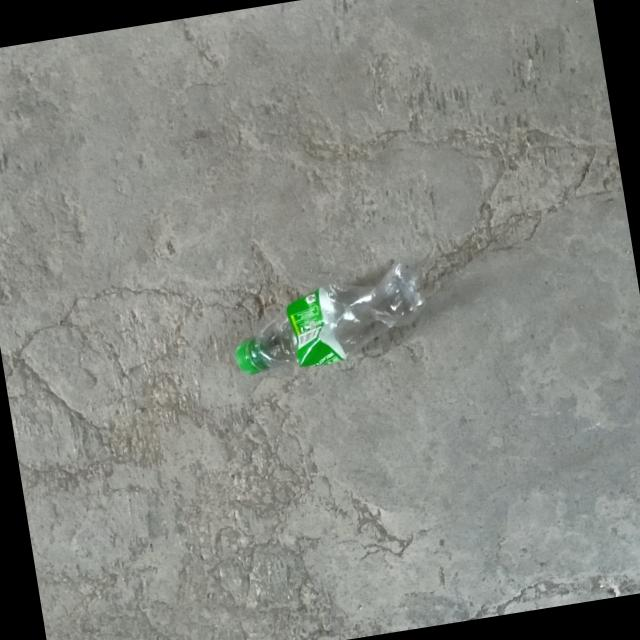Bottle: (235, 263, 423, 373)
